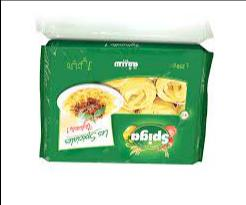Tagliatelle: (37, 45, 206, 164)
